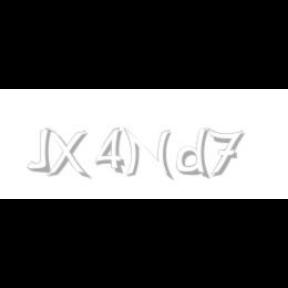4: (94, 128, 125, 174)
7: (208, 128, 244, 178)
J: (26, 128, 51, 172)
N: (122, 128, 171, 180)
X: (44, 128, 88, 180)
d: (177, 128, 214, 180)
